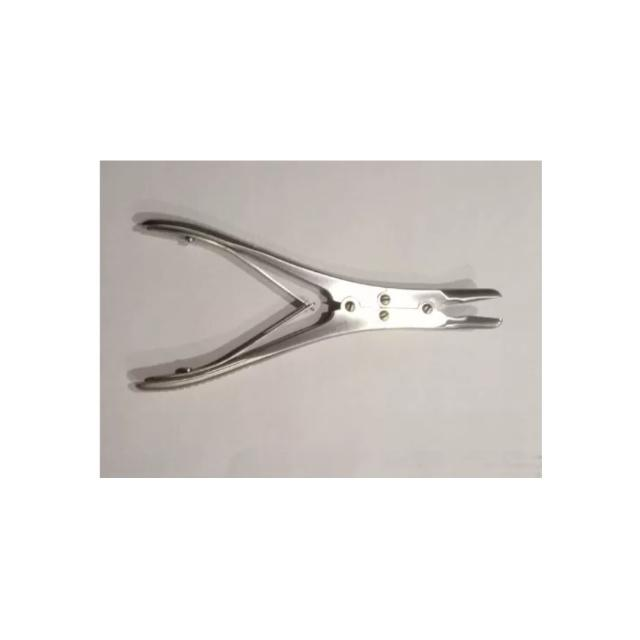gubia: (128, 215, 502, 394)
